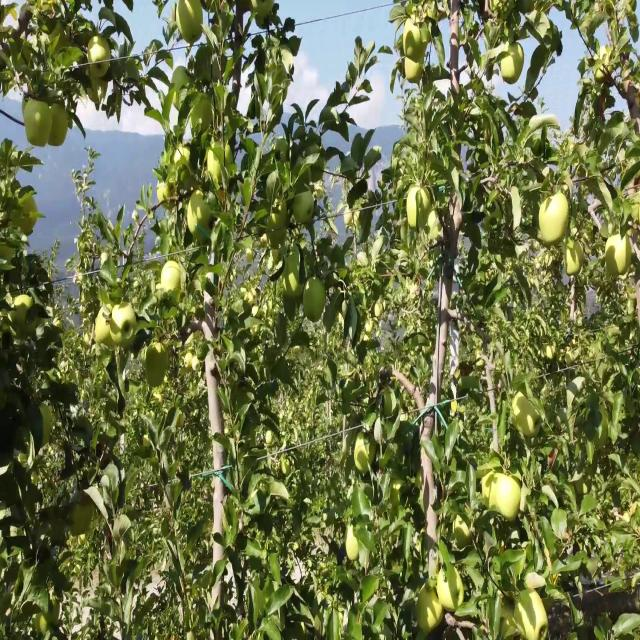apple: (515, 586, 548, 640), (540, 188, 571, 239), (185, 188, 215, 238), (605, 232, 635, 276), (437, 565, 465, 612), (24, 96, 49, 148), (416, 583, 442, 632), (111, 299, 138, 346), (513, 390, 538, 440), (175, 3, 208, 40), (12, 294, 39, 337), (66, 495, 95, 533), (302, 278, 326, 322), (404, 17, 432, 54), (144, 344, 168, 387), (498, 473, 520, 519), (407, 183, 431, 225), (501, 44, 525, 85), (48, 98, 67, 149), (86, 34, 108, 76), (207, 140, 230, 178), (170, 66, 191, 105), (354, 434, 373, 474), (174, 146, 194, 184), (162, 260, 182, 296), (284, 257, 304, 293), (294, 187, 314, 220), (403, 56, 428, 82), (564, 238, 583, 272), (482, 474, 498, 512), (95, 302, 109, 345), (452, 516, 471, 546), (156, 179, 176, 207), (344, 526, 359, 558), (192, 355, 200, 372), (184, 353, 192, 368)
